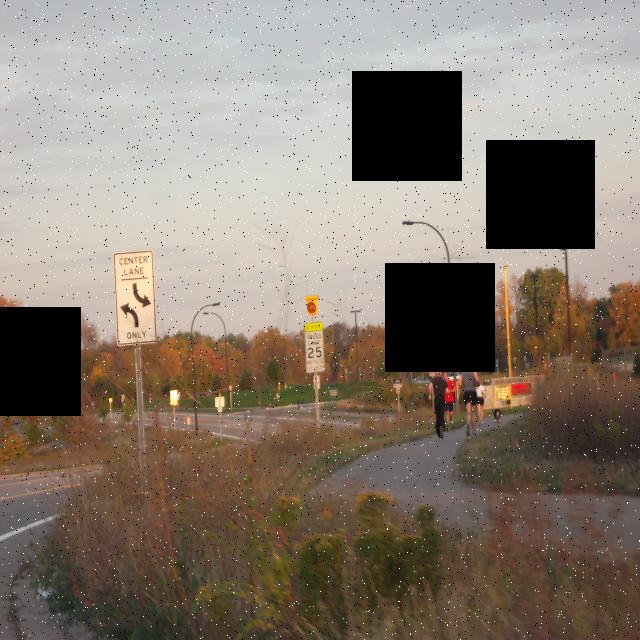regulatory: (112, 243, 160, 347), (304, 333, 326, 377)
warning: (302, 320, 325, 332)
